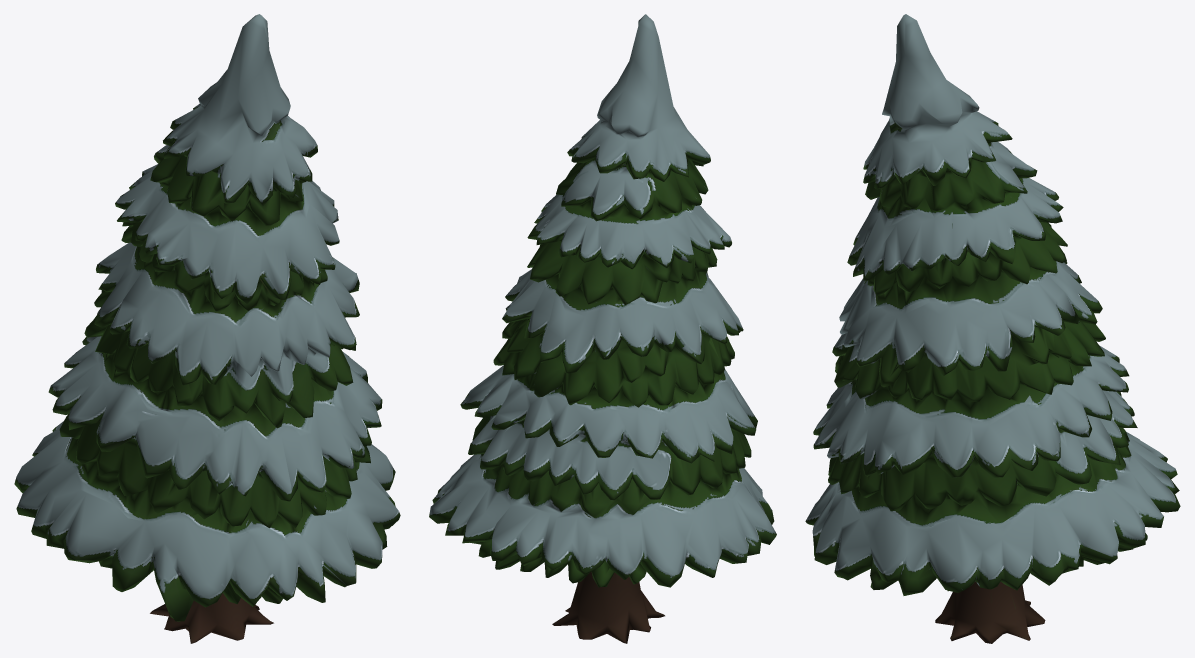
The model's file is tree_winter.opt.glb.
3 views of the same model, side by side, from view 1: azimuth 30°, elevation 25°; view 2: azimuth 150°, elevation 25°; view 3: azimuth 270°, elevation 25° (orthographic). The views are drawn at different scales.
Size of the model in its own units: 0.6374 by 1.16 by 0.6472.
1 material, 1 textured.
